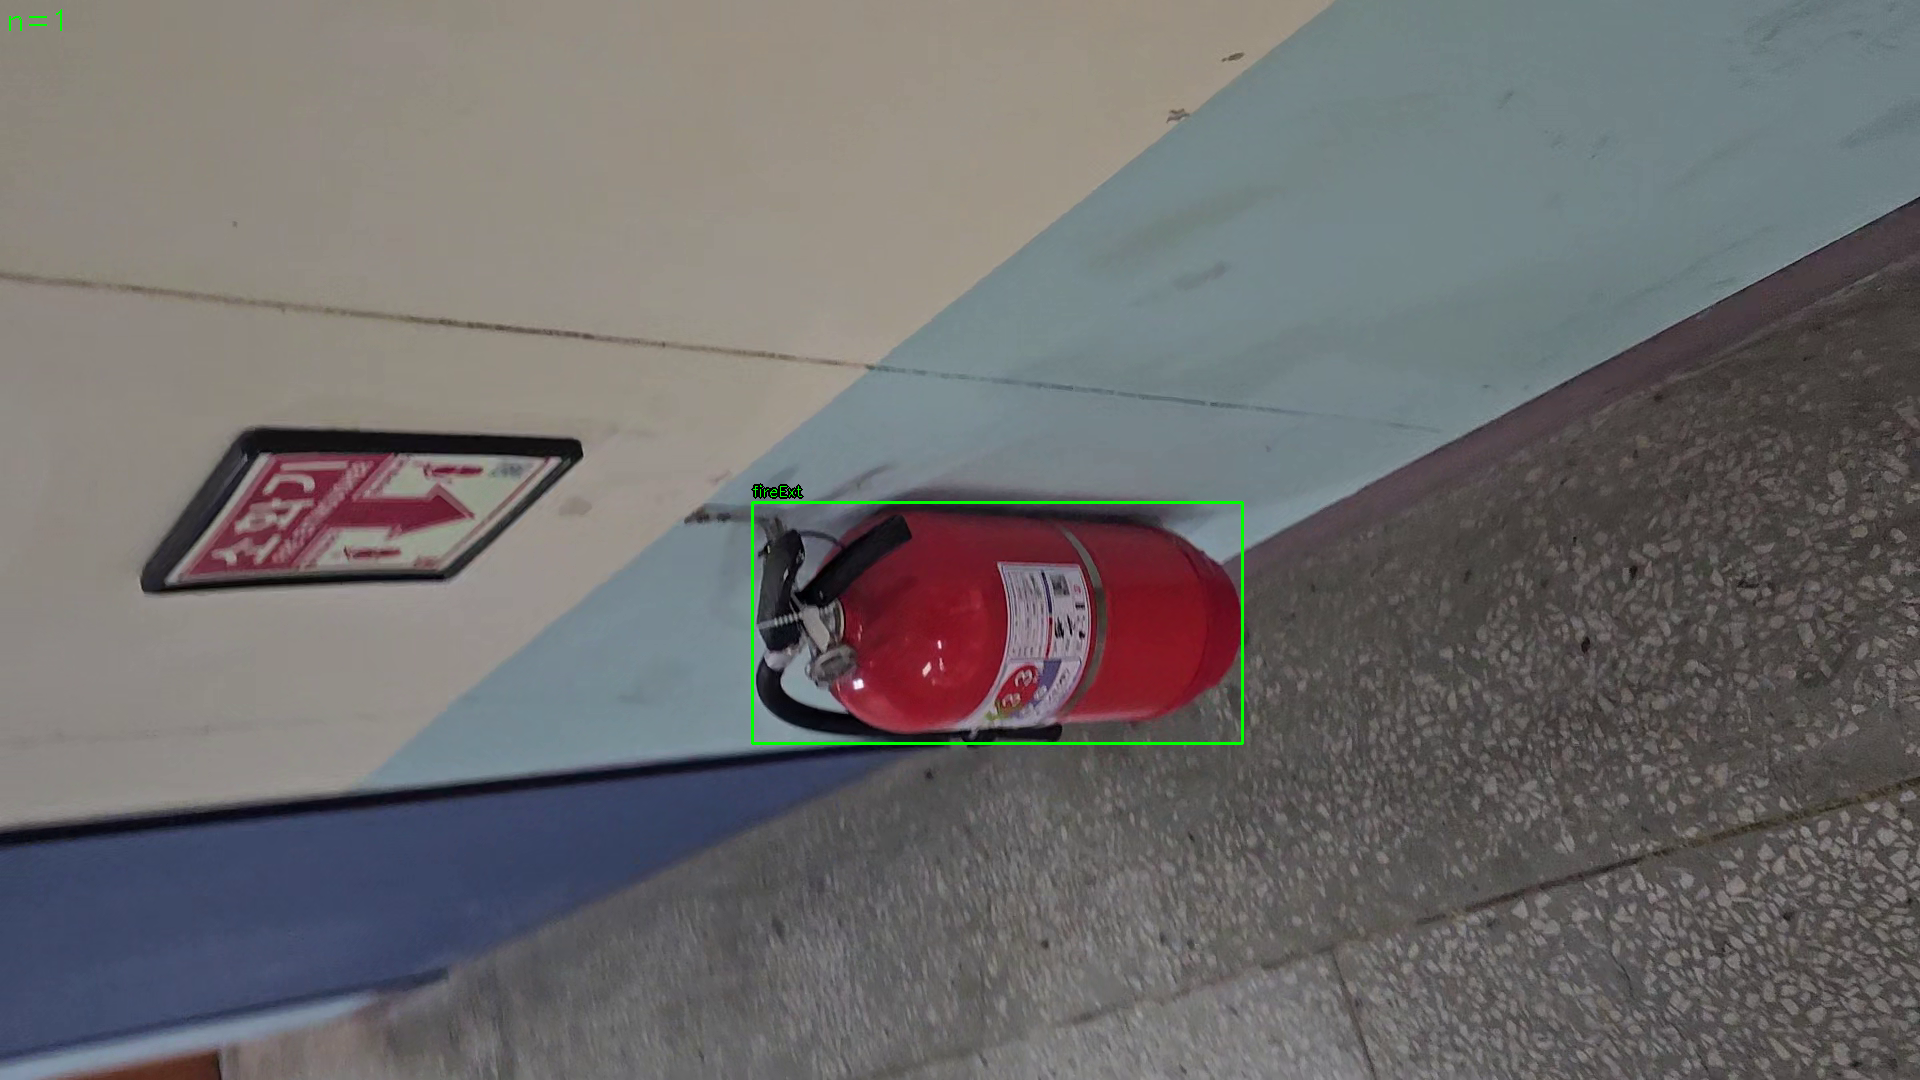lane: (752, 502, 1244, 744)
